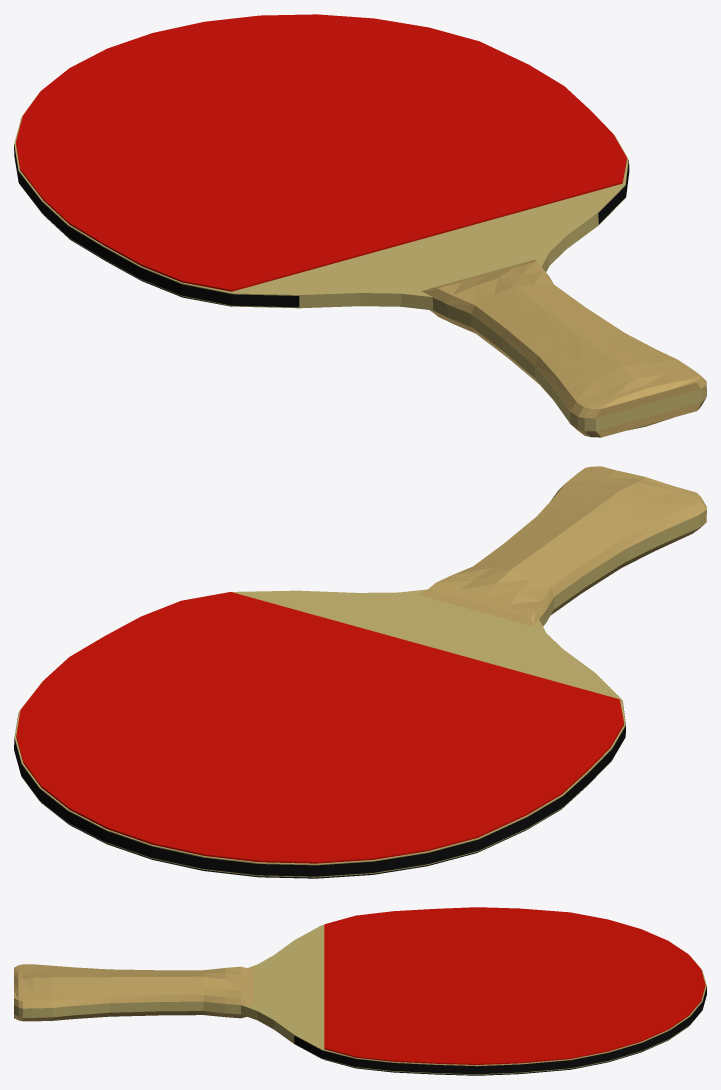
File: tableTennisBat.obj
3 views of the same model, one above another, from view 1: azimuth 30°, elevation 25°; view 2: azimuth 150°, elevation 25°; view 3: azimuth 270°, elevation 25° (orthographic). The views are drawn at different scales.
Parts seen in each view (by area): view 1: Circle.002, Circle, Circle.001, Circle.004; view 2: Circle.002, Circle.001, Circle, Circle.004, Circle.003; view 3: Circle.002, Circle, Circle.001, Circle.004, Circle.003.
Part boxes in pixels (x1,y1,x2,y2): Circle.002: (16, 14, 626, 291); Circle: (14, 91, 706, 431); Circle.001: (421, 259, 706, 437); Circle.004: (14, 144, 629, 307); Circle.002: (16, 592, 624, 863); Circle.001: (419, 466, 706, 626); Circle: (14, 494, 706, 877); Circle.004: (14, 701, 625, 876); Circle.003: (41, 786, 586, 878); Circle.002: (324, 907, 705, 1064); Circle: (14, 924, 706, 1074); Circle.001: (14, 964, 253, 1021); Circle.004: (294, 986, 706, 1074); Circle.003: (325, 1026, 688, 1075).
Bounding box in the file's own units: 14.66 × 1.29 × 25.4.
